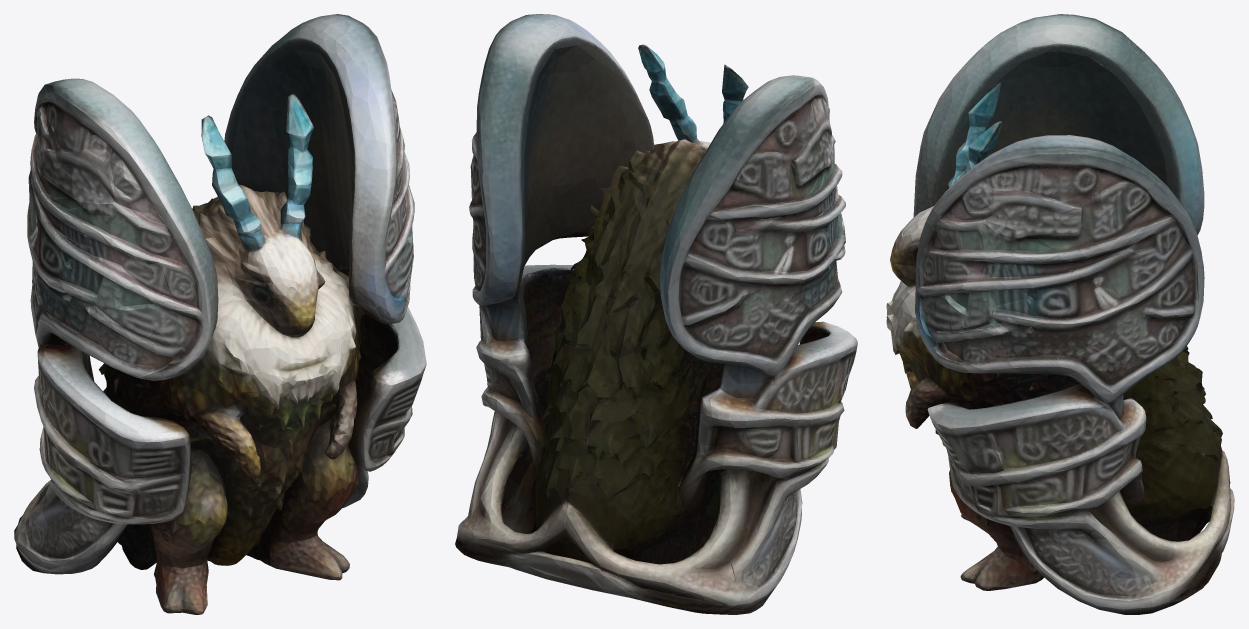
File: mirrorMoth.glb
3 views of the same model, side by side, from view 1: azimuth 30°, elevation 25°; view 2: azimuth 150°, elevation 25°; view 3: azimuth 270°, elevation 25° (orthographic). The views are drawn at different scales.
Visible parts, largest first — view 1: world; view 2: world; view 3: world.
Part boxes in pixels (bbox=[...]): world: bbox=[14, 14, 426, 614]; world: bbox=[455, 14, 857, 614]; world: bbox=[886, 14, 1234, 614].
Size of the model in its own units: 0.7139 by 0.9987 by 0.6649.
Materials: 1 (1 with a texture image).
